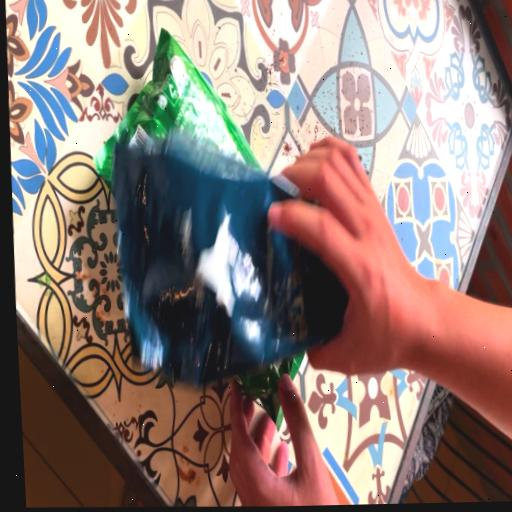cafe_hat: (112, 135, 347, 384)
cafe_xay: (93, 29, 257, 186)
